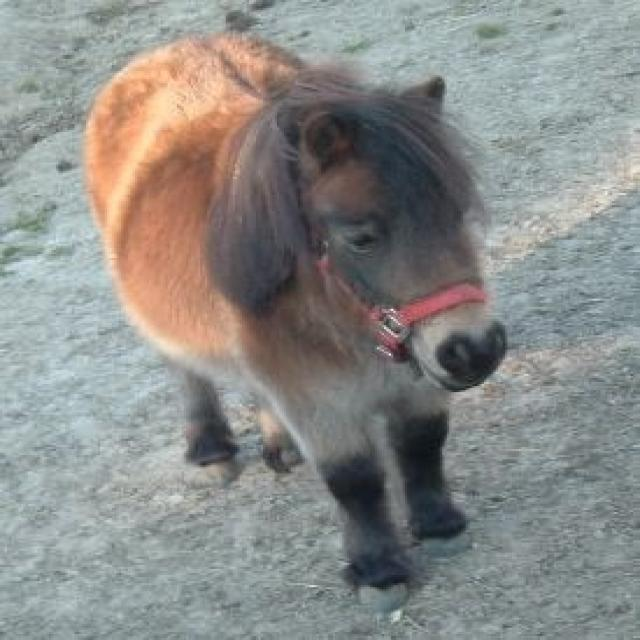horse: (80, 30, 508, 613)
